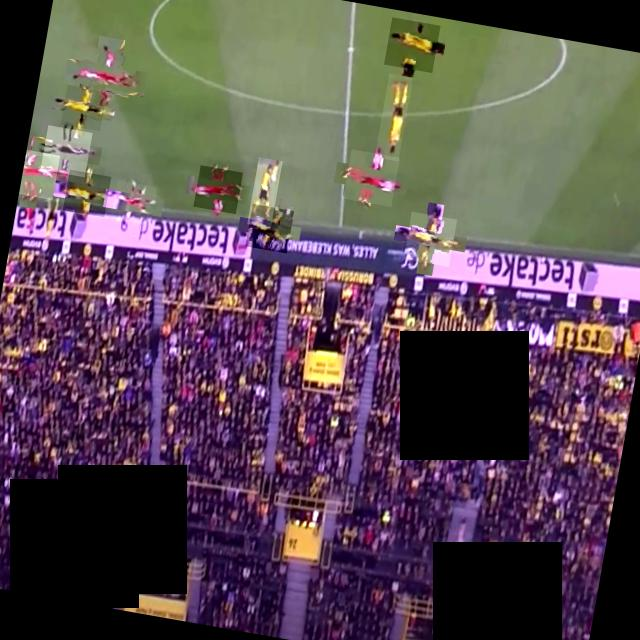ball: (284, 204, 292, 219)
referee: (39, 124, 91, 176)
soccer-player: (72, 44, 136, 110), (374, 72, 412, 160), (382, 15, 440, 72), (342, 147, 398, 205), (402, 210, 456, 265), (244, 202, 293, 252), (246, 156, 280, 227), (192, 164, 242, 212), (62, 168, 110, 216), (110, 178, 156, 224), (60, 84, 106, 130), (18, 148, 58, 198)
